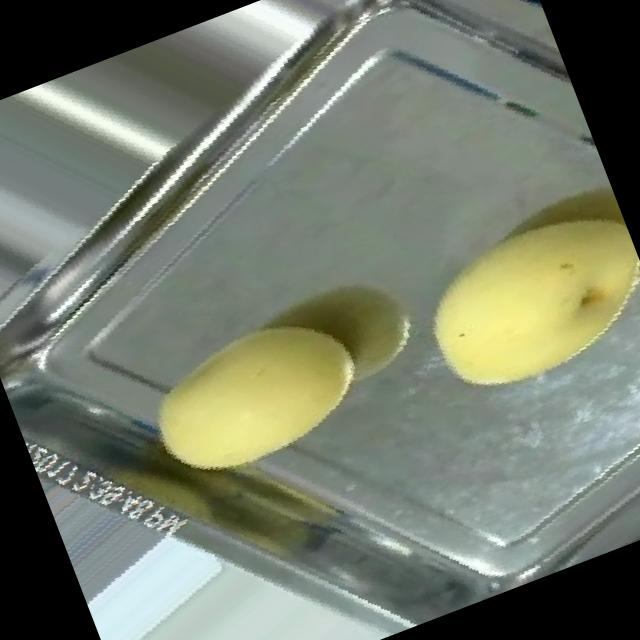Fruit: (365, 153, 640, 448), (108, 277, 402, 531)
